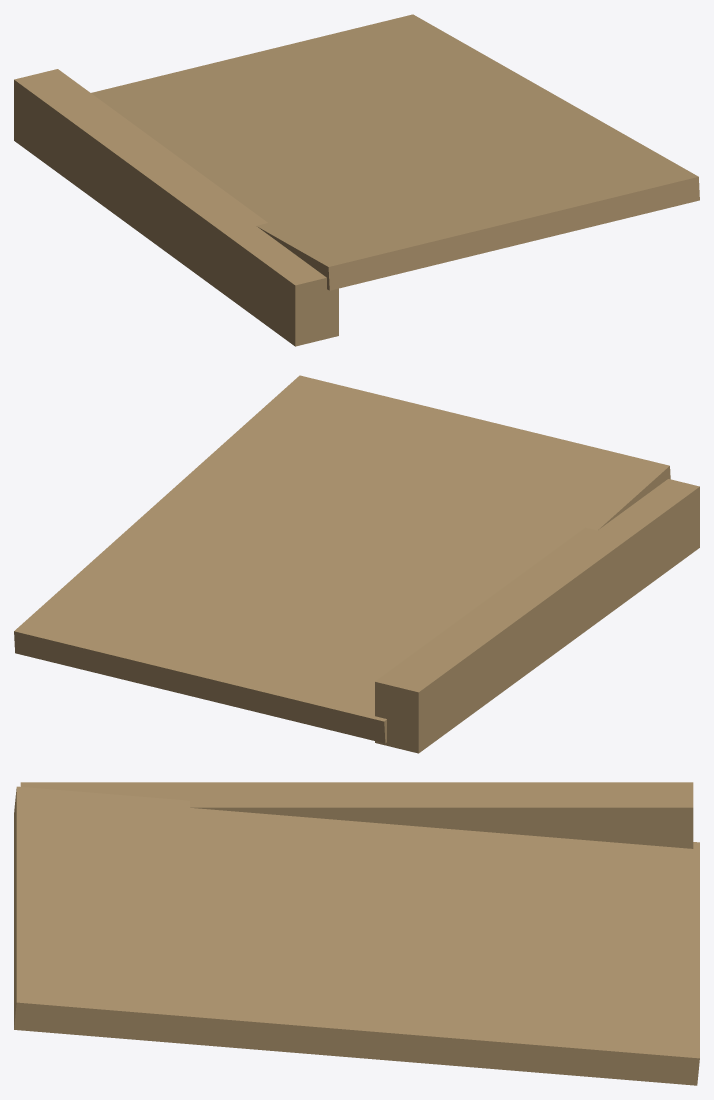
File: road_slope.glb
The picture shows the model from 3 angles, top to bottom: view 1: azimuth 30°, elevation 25°; view 2: azimuth 150°, elevation 25°; view 3: azimuth 270°, elevation 25°; orthographic projection. The views are drawn at different scales.
Visible parts, largest first — view 1: road_slope; view 2: road_slope; view 3: road_slope.
Part boxes in pixels (x1,y1,x2,y2): road_slope: (14,14,699,346); road_slope: (14,375,699,753); road_slope: (14,782,699,1085).
Size of the model in its own units: 0.825 by 0.1432 by 1.02.
